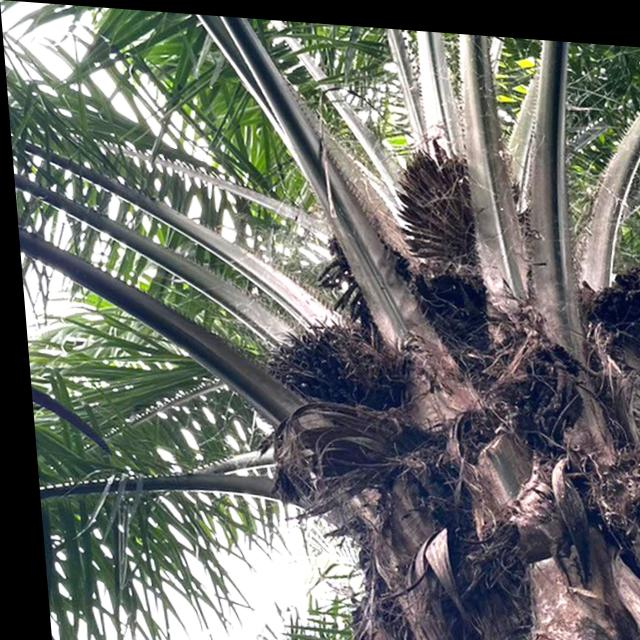almost: (251, 312, 395, 414)
